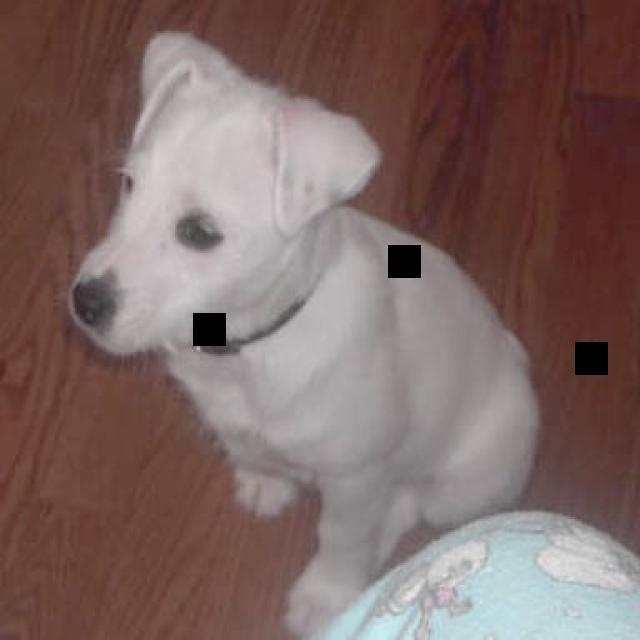puppy-dog: (65, 30, 542, 640)
